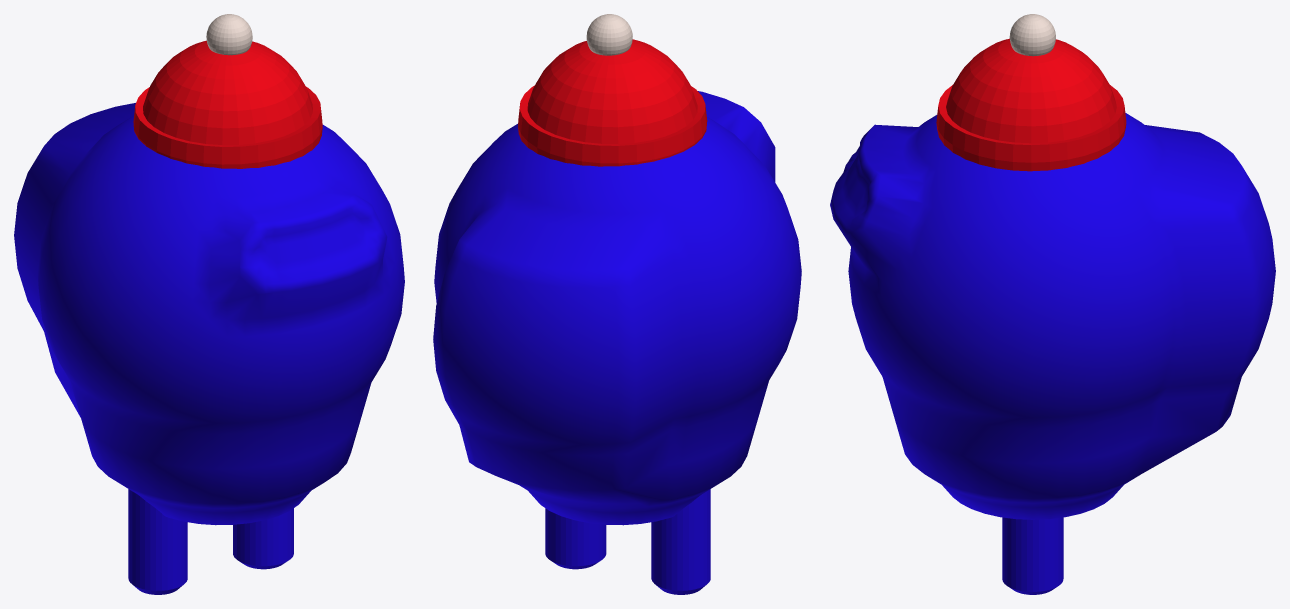
3 renders of one model, left to right at view 1: azimuth 30°, elevation 25°; view 2: azimuth 150°, elevation 25°; view 3: azimuth 270°, elevation 25°, orthographic.
Parts seen in each view (by area): view 1: Sphere, Sphere.001, Cylinder.001, Cylinder, Sphere.002; view 2: Sphere, Sphere.001, Cylinder.001, Cylinder, Sphere.002; view 3: Sphere, Sphere.001, Cylinder, Sphere.002.
Part boxes in pixels (x1,y1,x2,y2): Sphere: [14, 103, 404, 525]; Sphere.001: [133, 40, 322, 168]; Cylinder.001: [128, 489, 187, 594]; Cylinder: [233, 508, 293, 569]; Sphere.002: [206, 14, 252, 55]; Sphere: [433, 91, 801, 525]; Sphere.001: [518, 39, 707, 166]; Cylinder.001: [651, 489, 710, 594]; Cylinder: [545, 508, 606, 569]; Sphere.002: [586, 14, 632, 55]; Sphere: [830, 113, 1275, 519]; Sphere.001: [936, 38, 1126, 171]; Cylinder: [1002, 517, 1063, 594]; Sphere.002: [1009, 14, 1055, 56].
Size of the model in its own units: 2 by 3.31 by 2.42.
